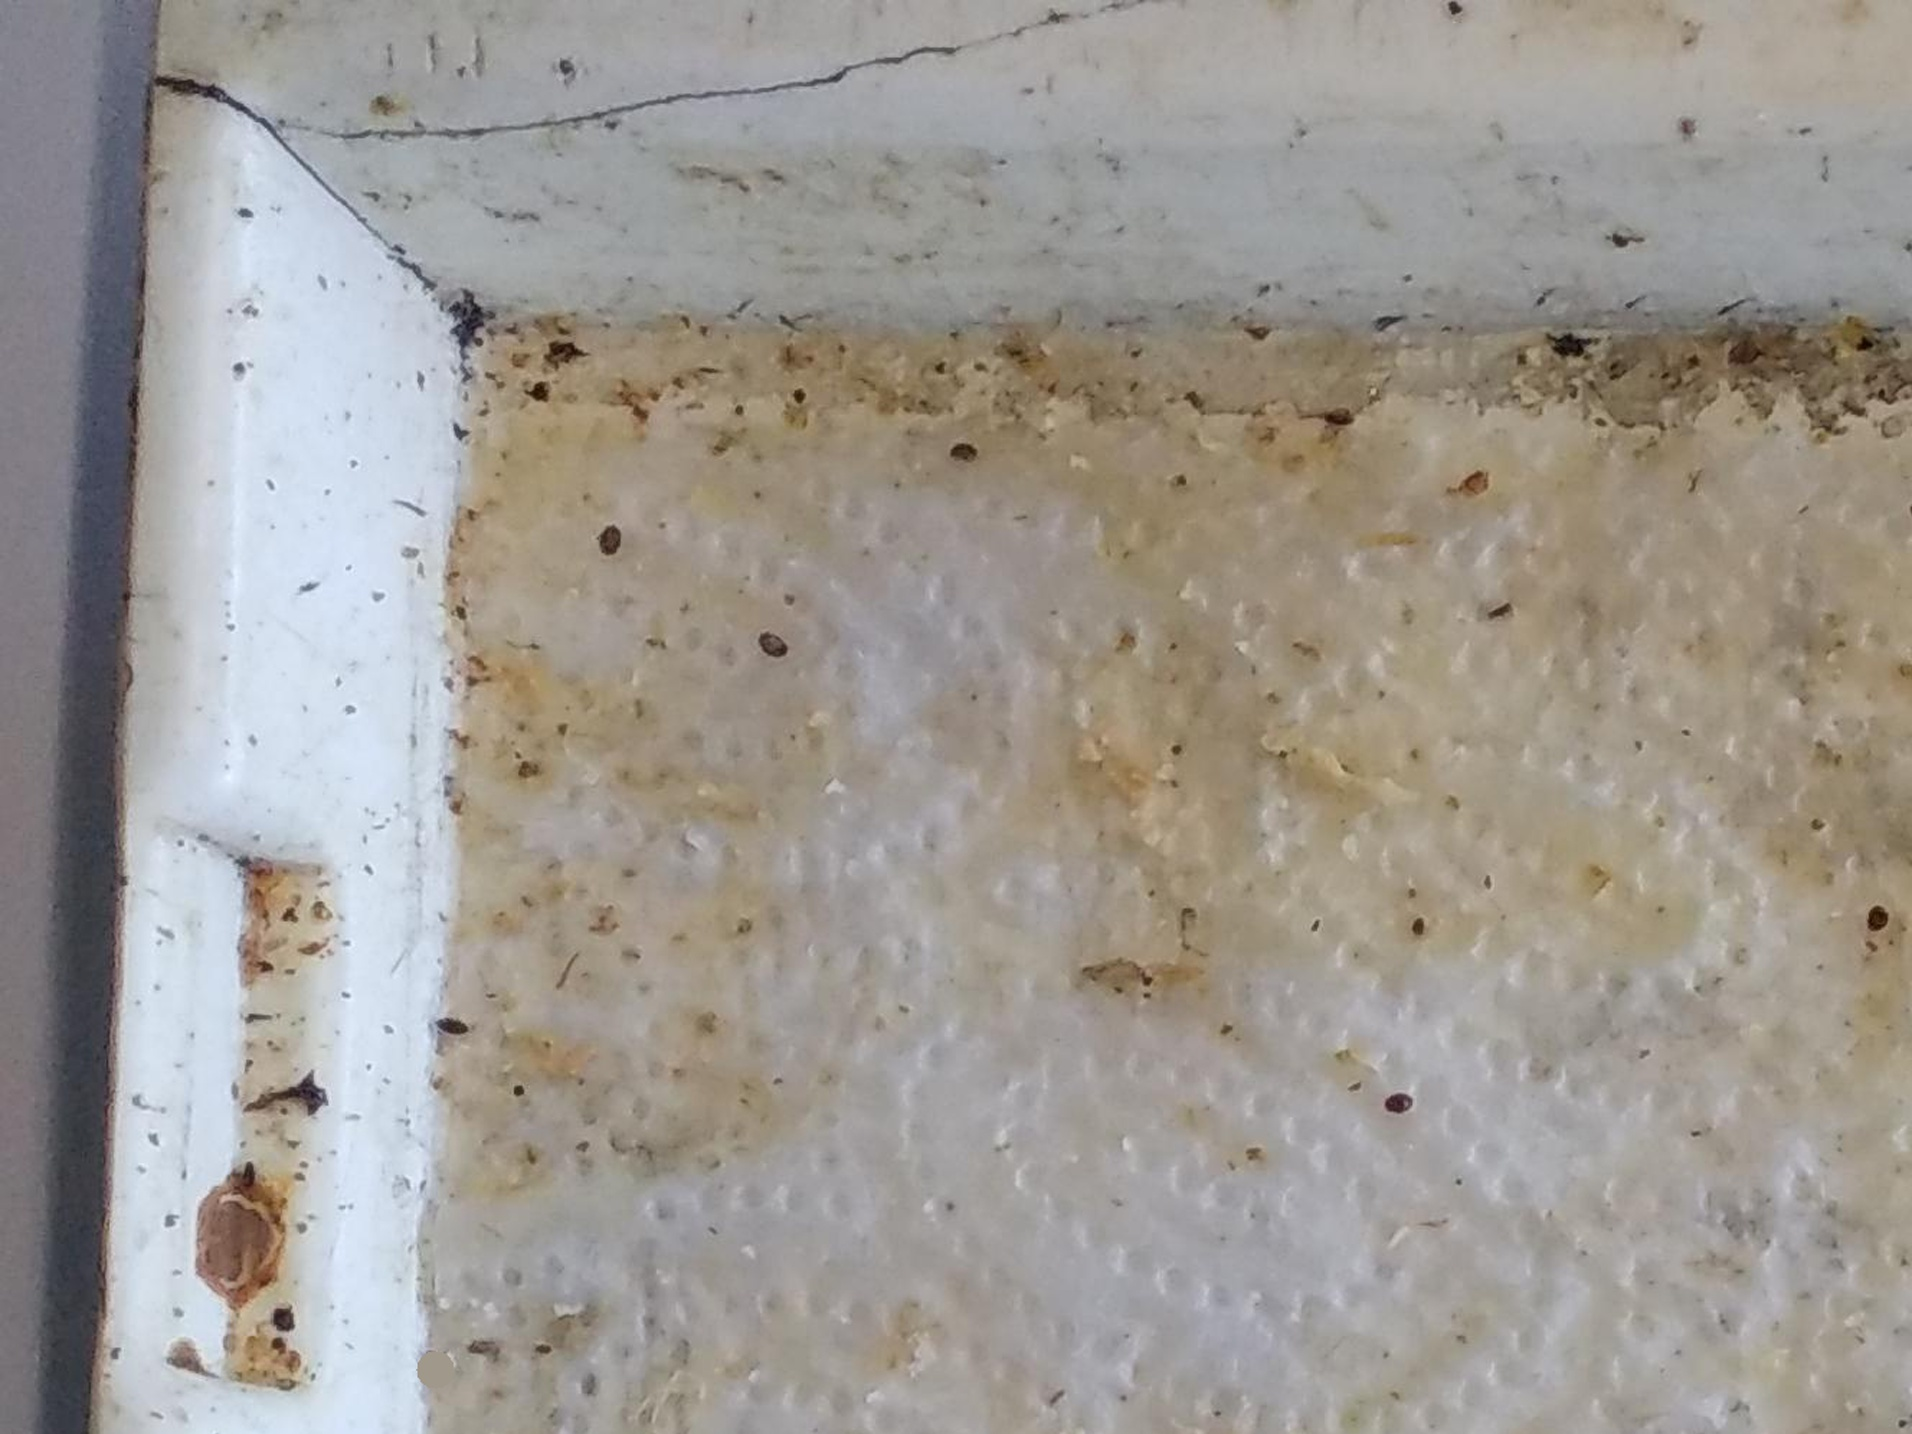Varroa: (1861, 896, 1897, 934), (598, 520, 632, 554), (760, 627, 793, 663), (1381, 1085, 1414, 1118), (941, 437, 973, 471), (438, 1008, 470, 1042)
